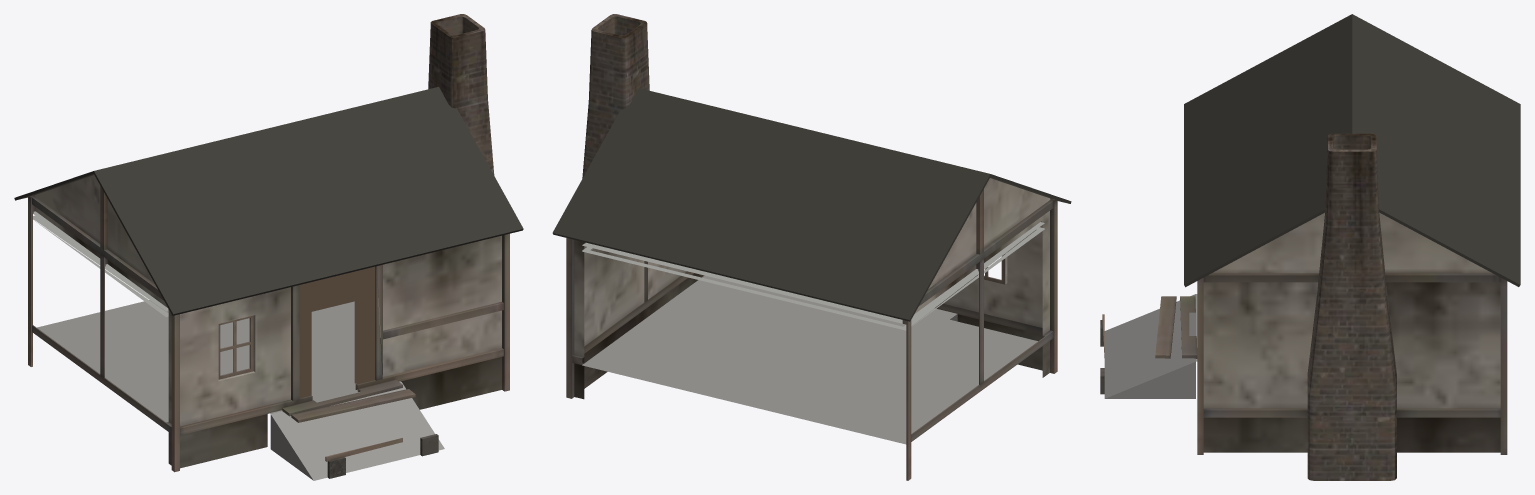
The model's file is camp-cabin.zfix-v14.lod1.glb.
3 views of the same model, side by side, from view 1: azimuth 30°, elevation 25°; view 2: azimuth 150°, elevation 25°; view 3: azimuth 270°, elevation 25° (orthographic). The views are drawn at different scales.
Visible parts, largest first — view 1: Object_3, Object_6, Object_7, Object_4, Object_2; view 2: Object_3, Object_6, Object_7, Object_4; view 3: Object_3, Object_6, Object_4, Object_7.
Boxes of the visible parts, left/top/right/bottom form: Object_3: left=14, top=87, right=523, bottom=480; Object_6: left=35, top=175, right=501, bottom=468; Object_7: left=28, top=186, right=509, bottom=472; Object_4: left=428, top=14, right=494, bottom=175; Object_2: left=327, top=434, right=438, bottom=478; Object_3: left=552, top=88, right=1071, bottom=444; Object_6: left=574, top=178, right=1050, bottom=399; Object_7: left=566, top=189, right=1057, bottom=480; Object_4: left=582, top=14, right=649, bottom=178; Object_3: left=1104, top=14, right=1520, bottom=398; Object_6: left=1203, top=212, right=1500, bottom=452; Object_4: left=1307, top=133, right=1396, bottom=480; Object_7: left=1102, top=273, right=1507, bottom=454.
Bounding box in the file's own units: 10.5 × 7.8 × 9.18.
5 materials, 4 textured.
